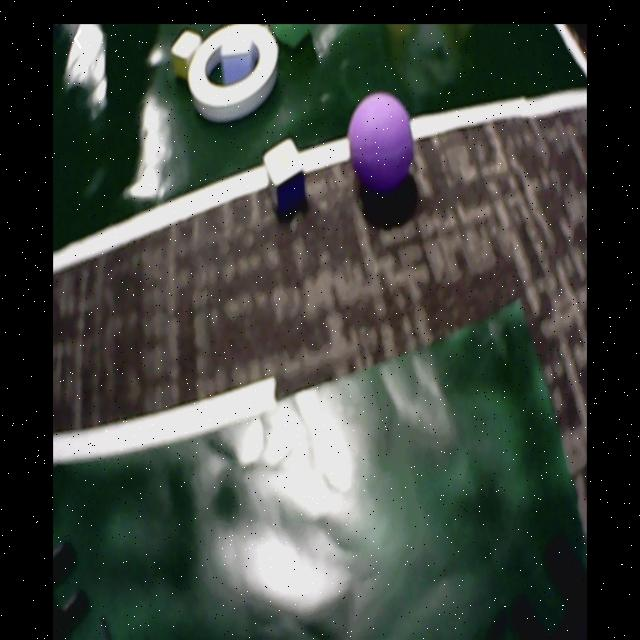ball: (349, 93, 415, 199)
